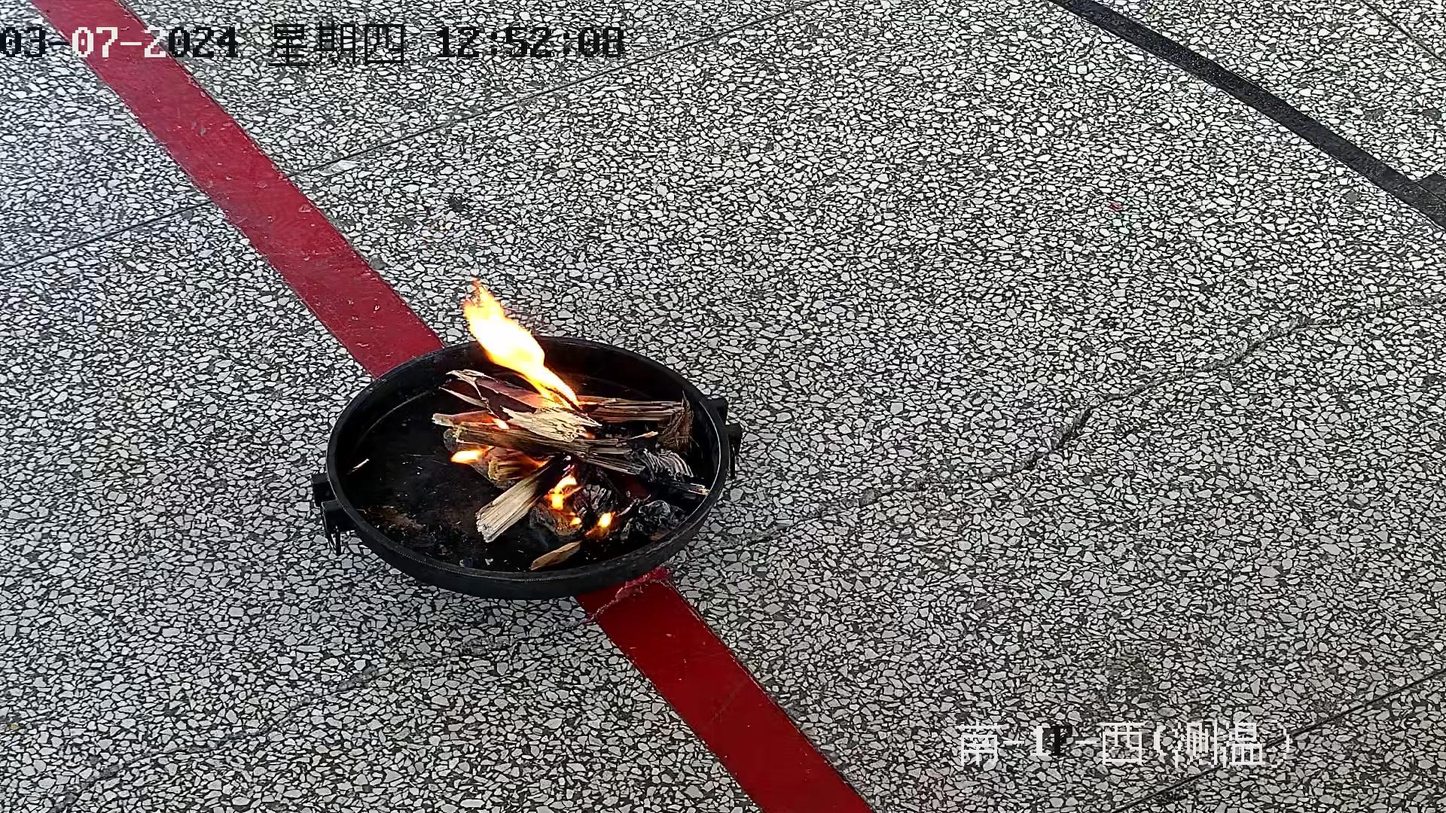fire: (463, 279, 579, 412)
